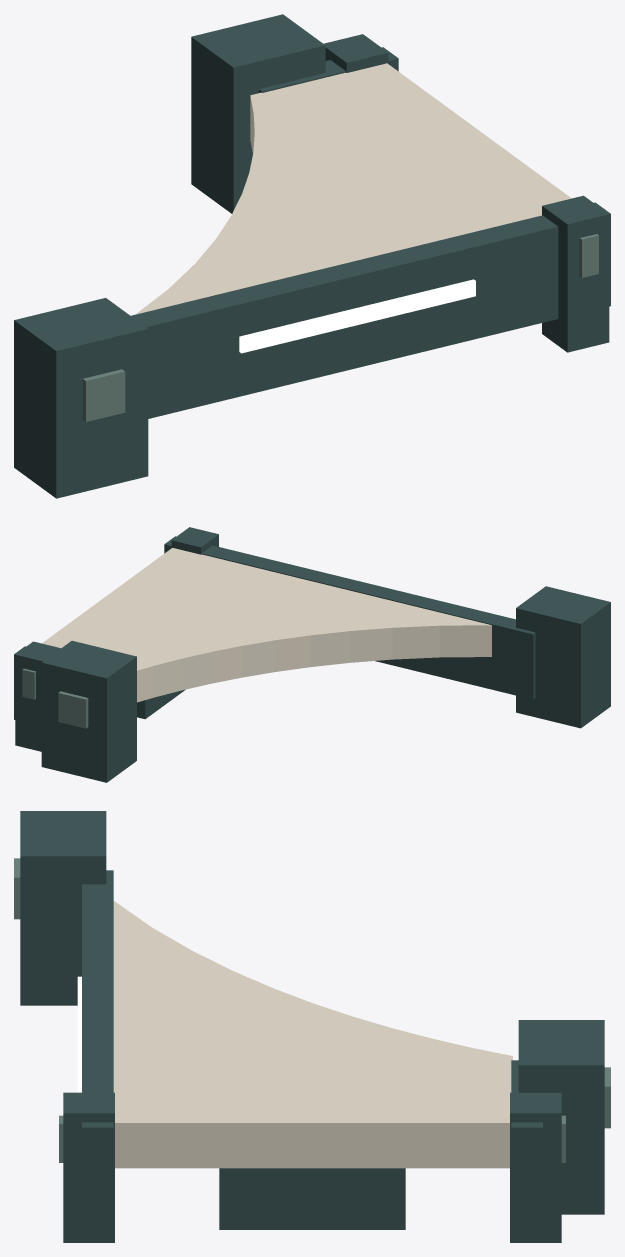
The model's file is Pier_Angled_40_lab.glb.
The picture shows the model from 3 angles, top to bottom: view 1: azimuth 30°, elevation 25°; view 2: azimuth 150°, elevation 25°; view 3: azimuth 270°, elevation 25°; orthographic projection. The views are drawn at different scales.
Parts seen in each view (by area): view 1: Pier_Angled_40; view 2: Pier_Angled_40; view 3: Pier_Angled_40.
Part boxes in pixels (x1,y1,x2,y2): Pier_Angled_40: [14, 14, 610, 498]; Pier_Angled_40: [14, 527, 610, 782]; Pier_Angled_40: [14, 811, 610, 1242].
Bounding box in the file's own units: 4.77 × 1.15 × 4.17.
